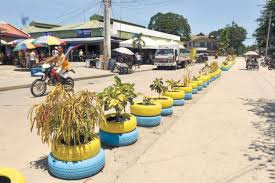tire: (46, 148, 106, 177), (50, 132, 102, 158), (96, 125, 139, 147), (97, 111, 137, 133), (128, 99, 163, 116), (130, 112, 163, 128), (149, 102, 175, 116), (149, 94, 174, 107)
